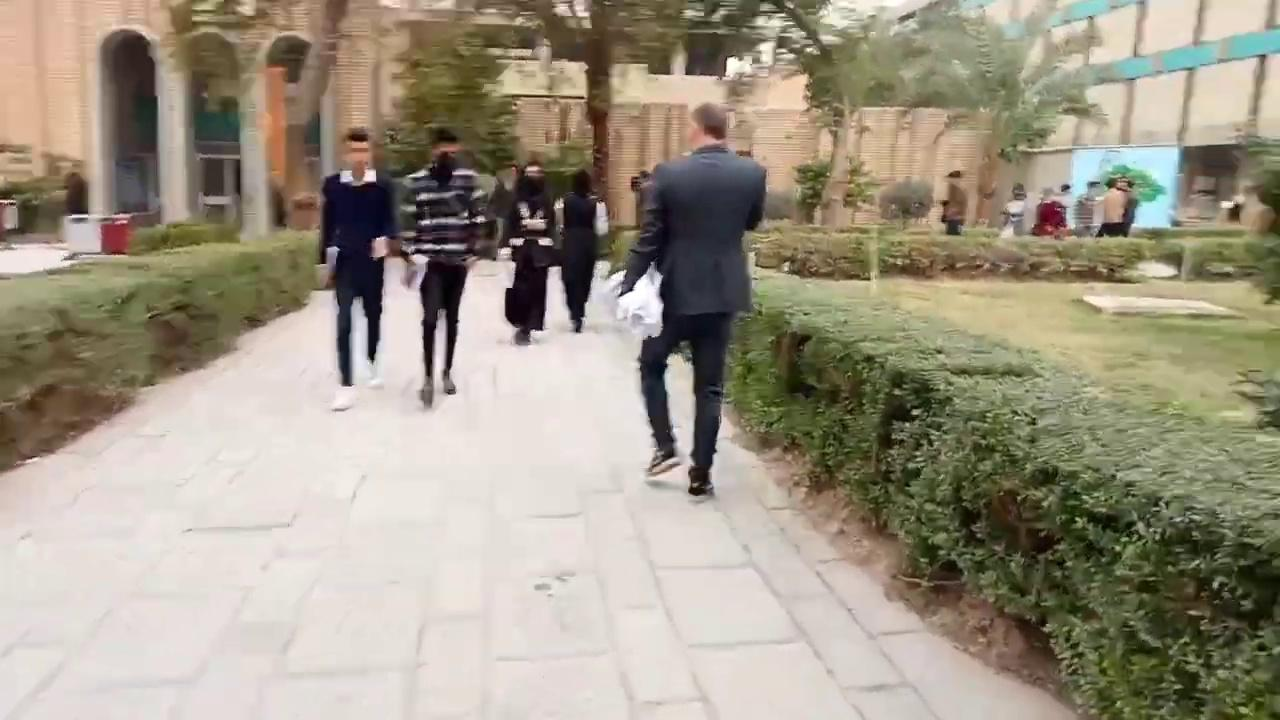person: (616, 101, 768, 497), (319, 125, 402, 411), (402, 129, 485, 407), (504, 161, 558, 345), (560, 168, 598, 332), (1097, 176, 1128, 237), (940, 170, 967, 235), (1032, 187, 1067, 237), (1000, 182, 1028, 236), (62, 170, 88, 215), (939, 199, 964, 235)
tree: (721, 267, 1278, 717), (1, 219, 320, 472), (888, 1, 1108, 229), (508, 0, 688, 217), (777, 3, 920, 225), (387, 26, 521, 181), (1098, 162, 1165, 233), (877, 174, 934, 227), (791, 156, 831, 224), (841, 153, 875, 225), (909, 176, 934, 224)
